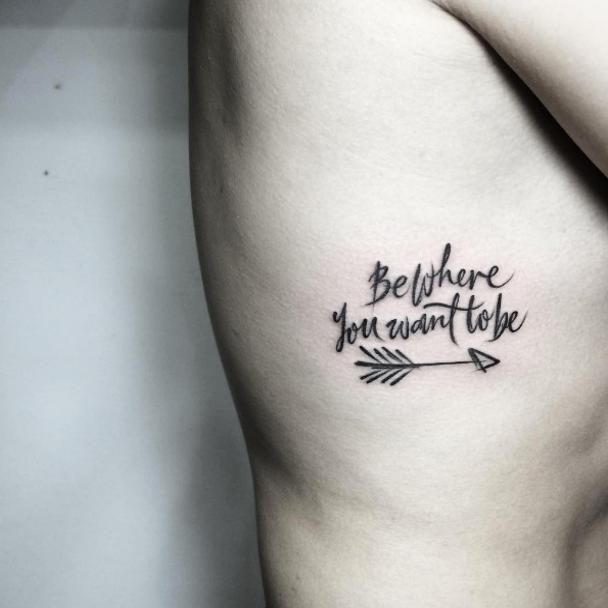tattoos: (329, 242, 531, 387)
